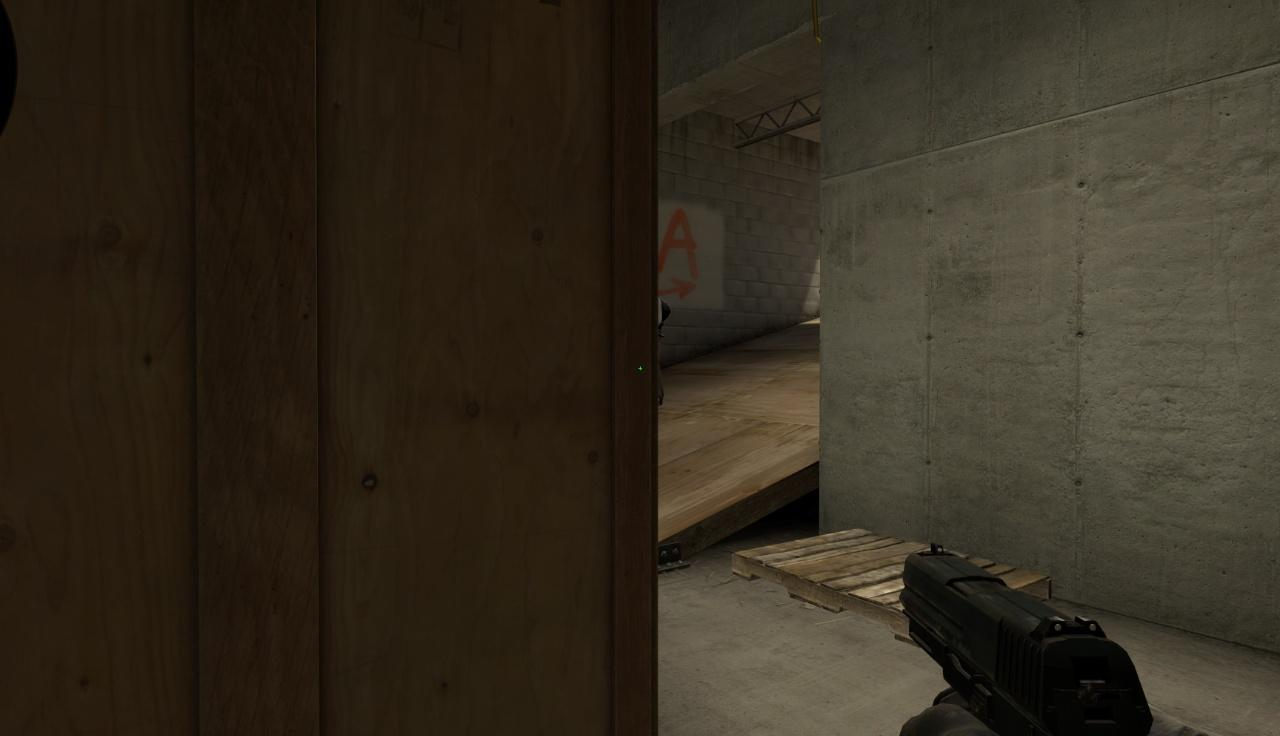pistol: (897, 547, 1152, 734)
